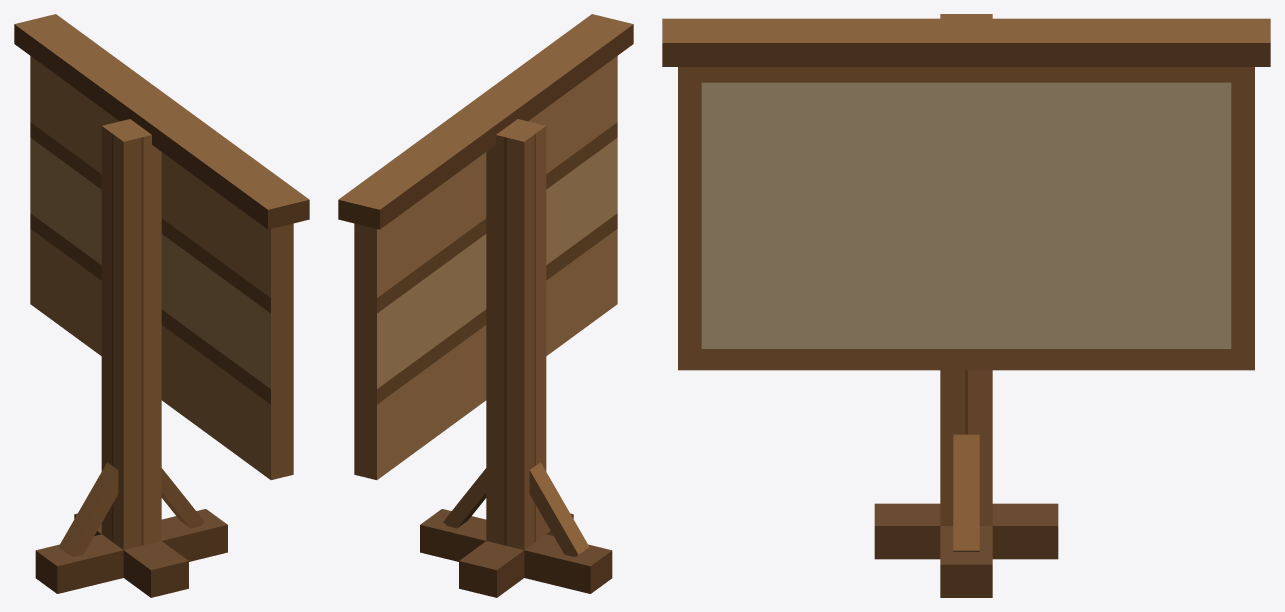
File: sign_capacity.glb
3 views of the same model, side by side, from view 1: azimuth 30°, elevation 25°; view 2: azimuth 150°, elevation 25°; view 3: azimuth 270°, elevation 25° (orthographic). The views are drawn at different scales.
Parts seen in each view (by area): view 1: sign_capacity; view 2: sign_capacity; view 3: sign_capacity.
Part boxes in pixels (x1,y1,x2,y2): sign_capacity: (14, 14, 309, 597); sign_capacity: (338, 14, 633, 597); sign_capacity: (662, 14, 1270, 597).
Bounding box in the file's own units: 0.9 × 2.25 × 2.32.
